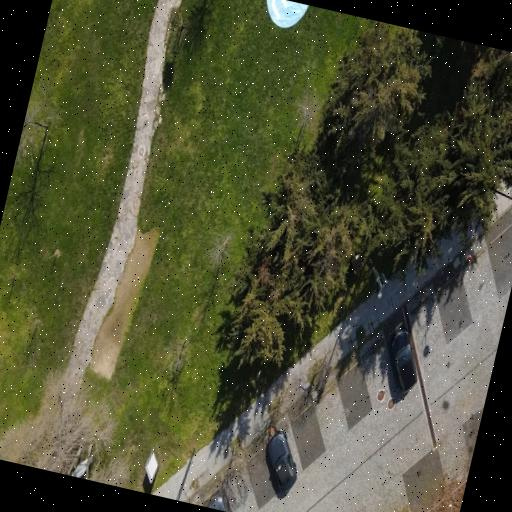person: (267, 430, 297, 494), (392, 328, 417, 392), (209, 494, 228, 511)
